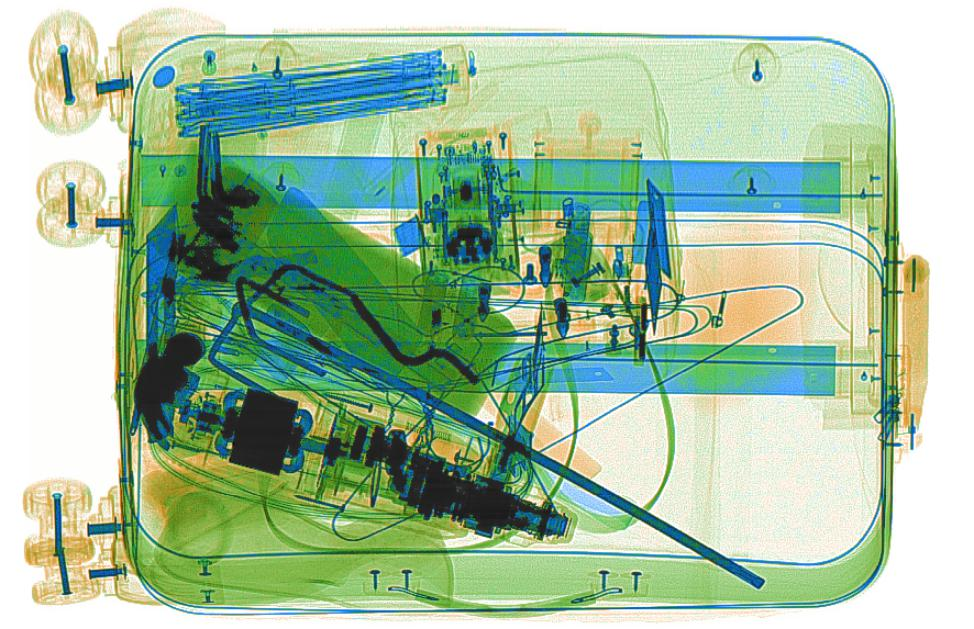battery: (559, 198, 592, 305)
knife: (143, 205, 180, 445), (642, 177, 674, 279), (525, 364, 615, 384)
